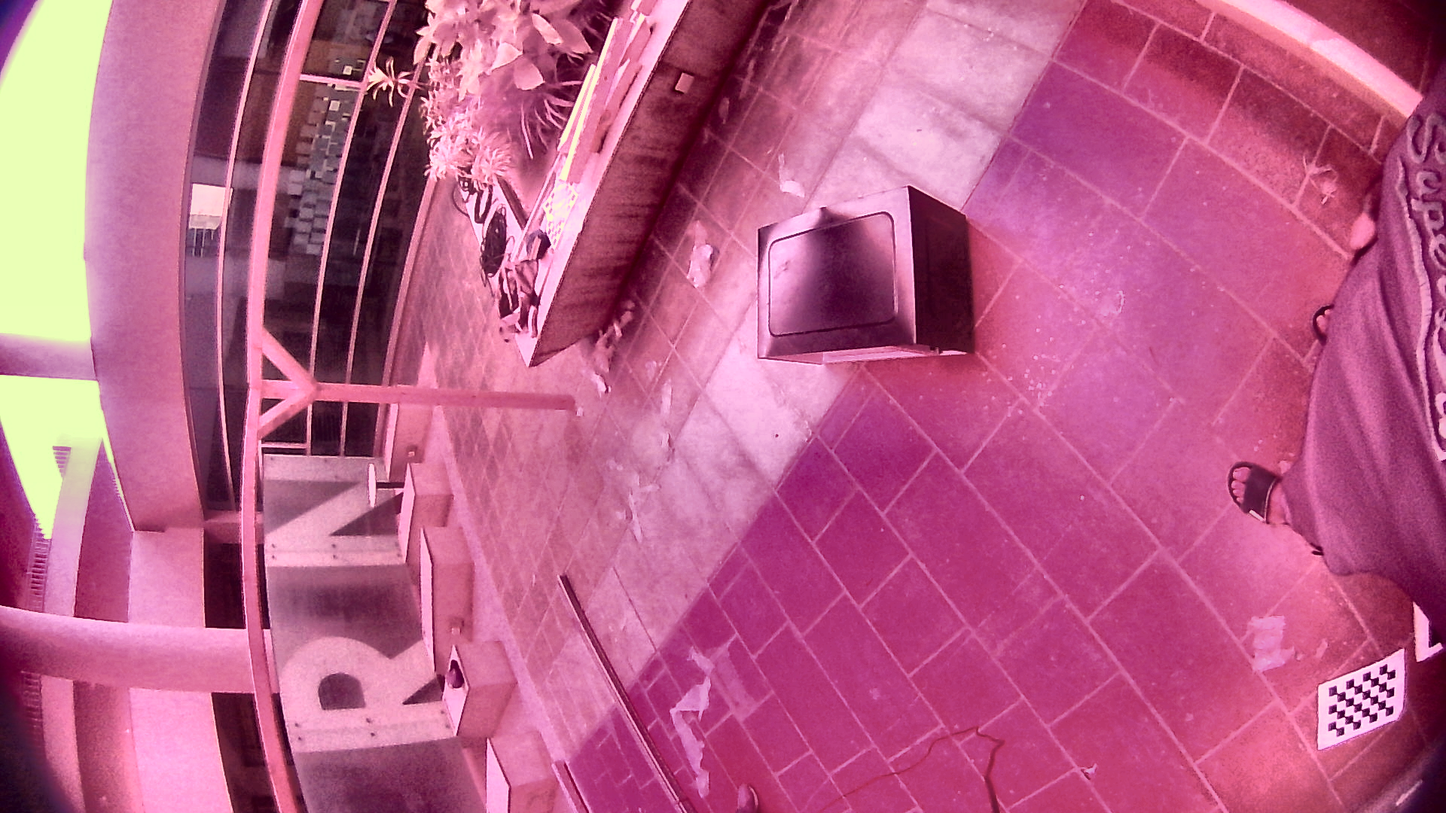MicroWave: (736, 165, 1006, 379)
